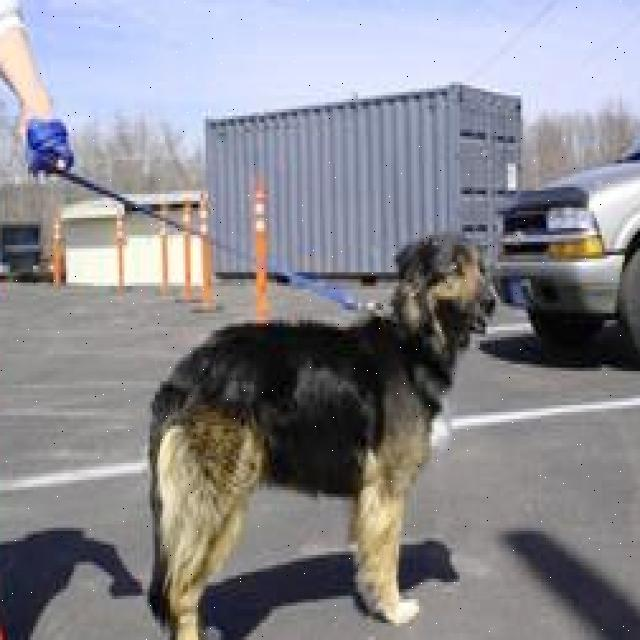Dog: (385, 231, 500, 350)
